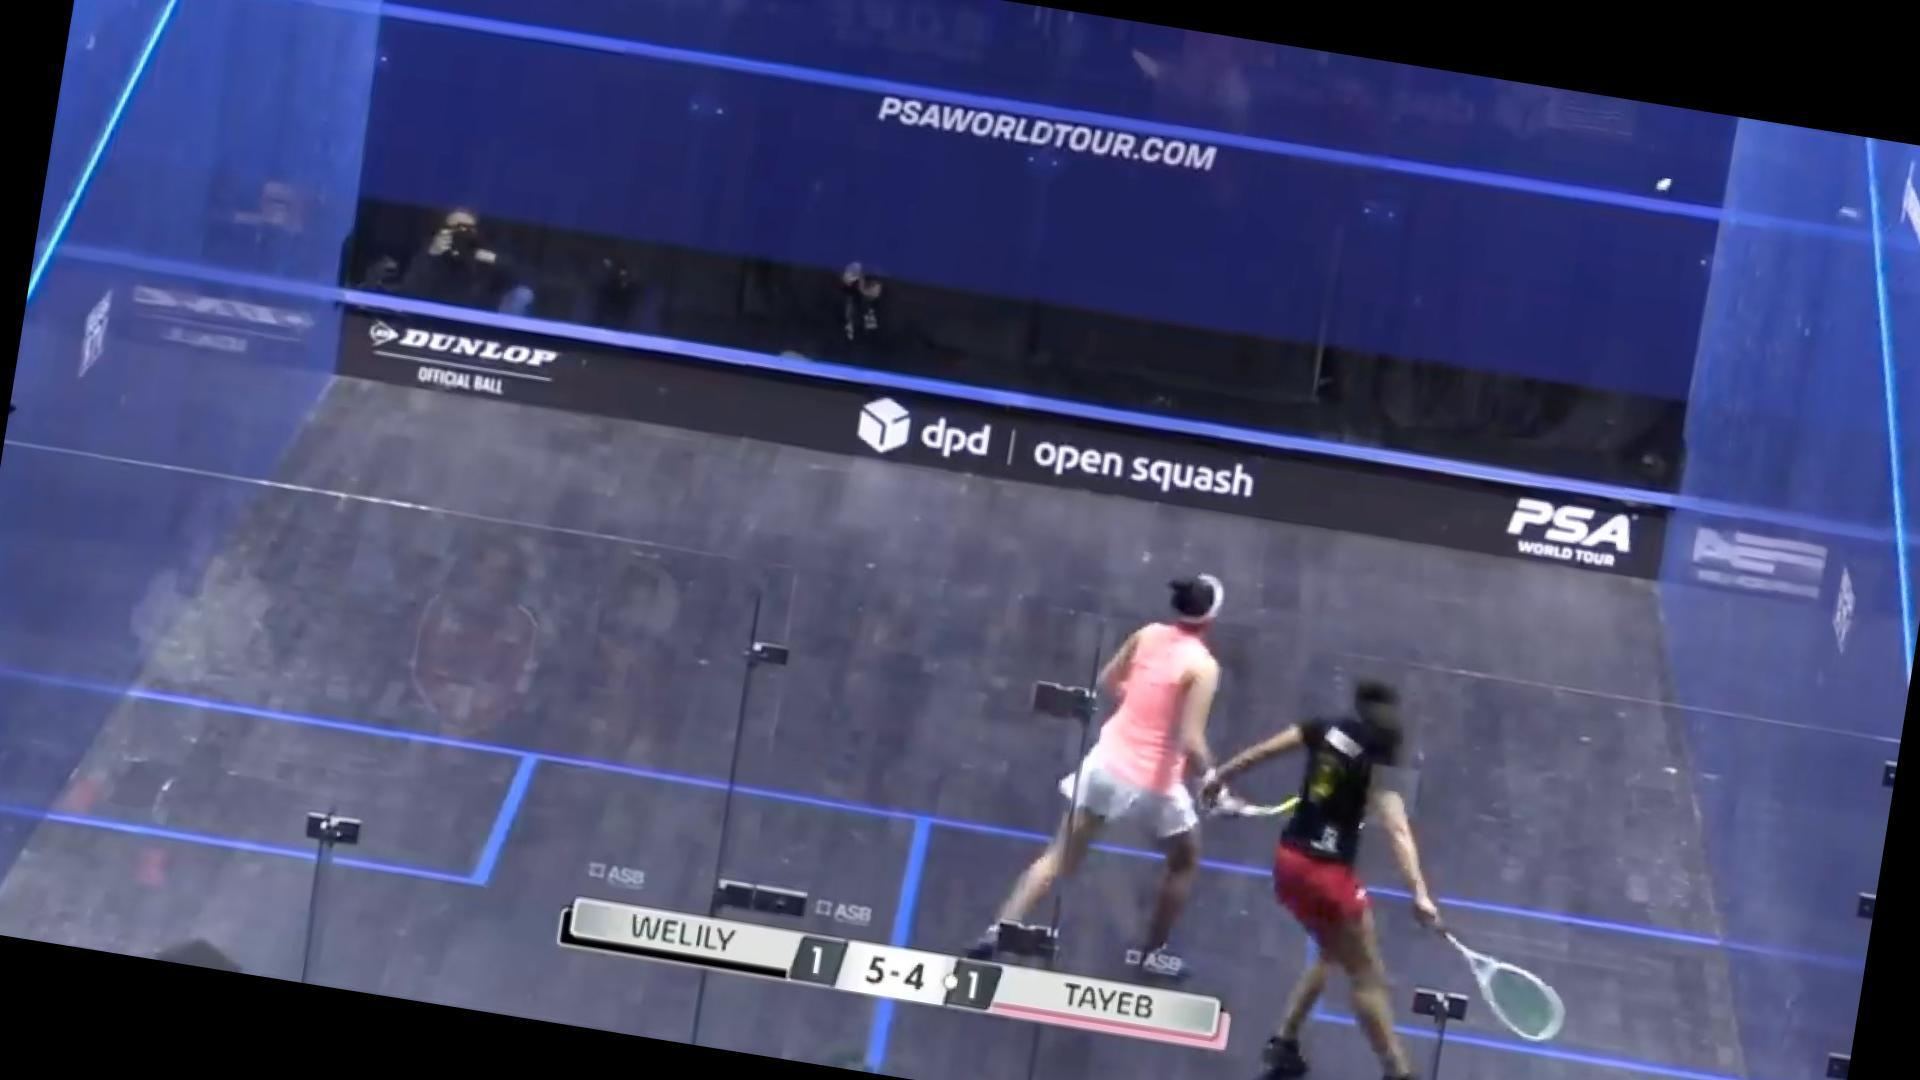Squash-Ball: (1640, 158, 1688, 214)
